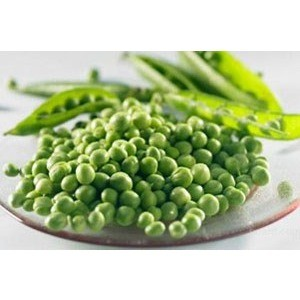green pea_brain food: (43, 106, 244, 224)
